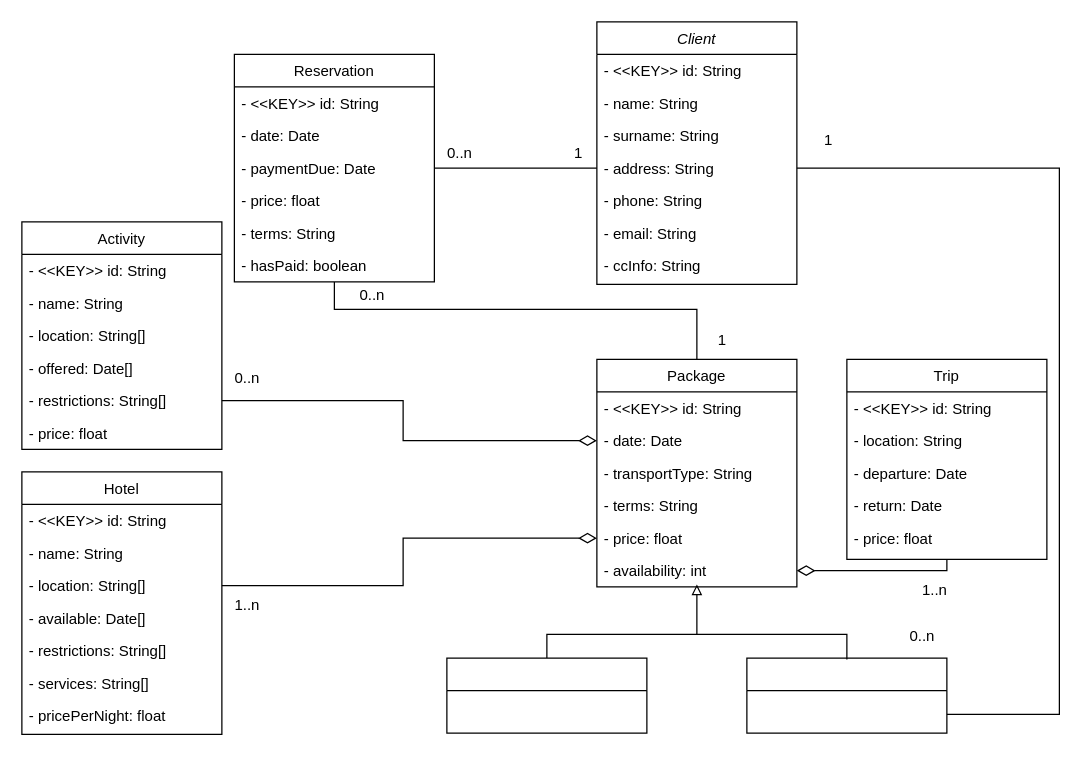
The diagram is 1083 pixels wide and 758 high, and some of its shapes have lost their labels. Here are the shapes that lost their labels. From the top down, the centre of each, then its label:
At (x=546, y=695): "DefaultPackage".
At (x=846, y=695): "CustomPackage".
